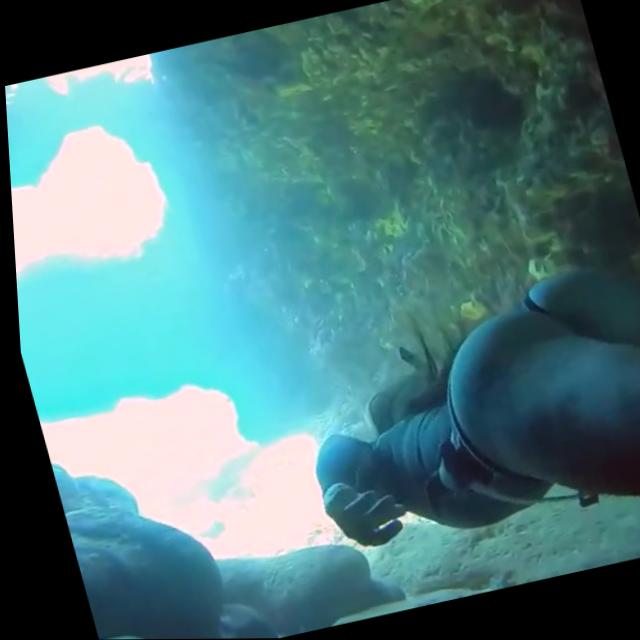human: (245, 243, 640, 626)
